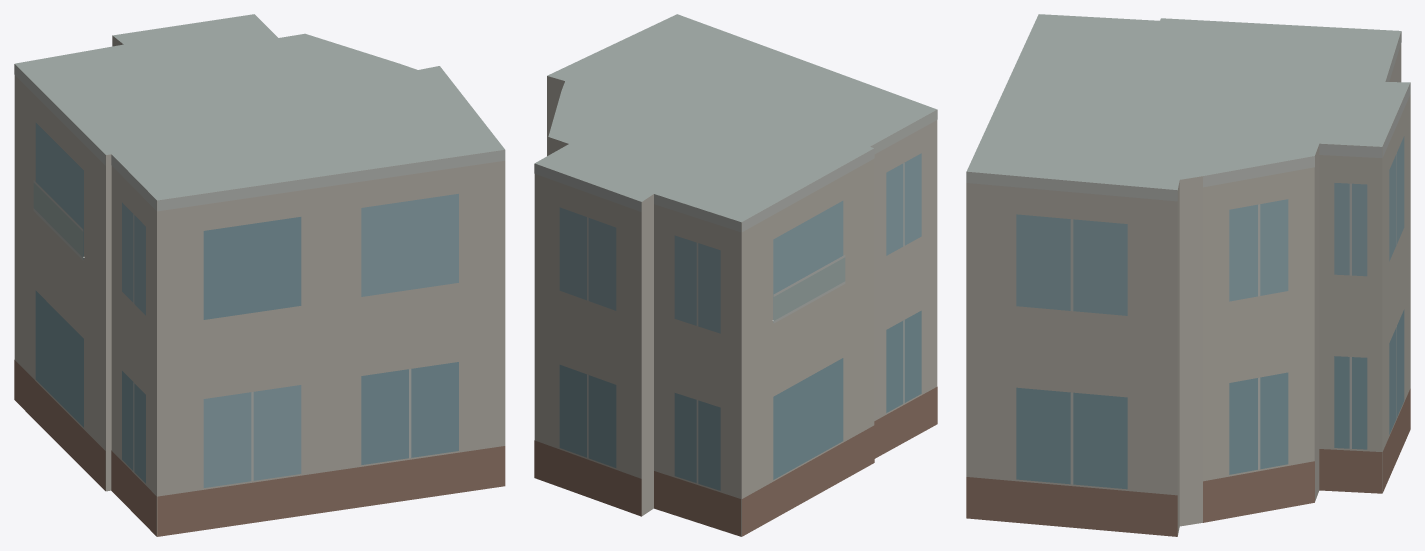
File: survey-upis-32517969.glb
The picture shows the model from 3 angles, left to right: view 1: azimuth 30°, elevation 25°; view 2: azimuth 150°, elevation 25°; view 3: azimuth 270°, elevation 25°; orthographic projection. The views are drawn at different scales.
Visible parts, largest first — view 1: survey-upis-32517969.tmp; view 2: survey-upis-32517969.tmp; view 3: survey-upis-32517969.tmp.
Part boxes in pixels (bbox=[...]): survey-upis-32517969.tmp: bbox=[14, 14, 505, 536]; survey-upis-32517969.tmp: bbox=[534, 14, 937, 536]; survey-upis-32517969.tmp: bbox=[966, 14, 1410, 536].
Bounding box in the file's own units: 8.18 × 7.5 × 8.72.
